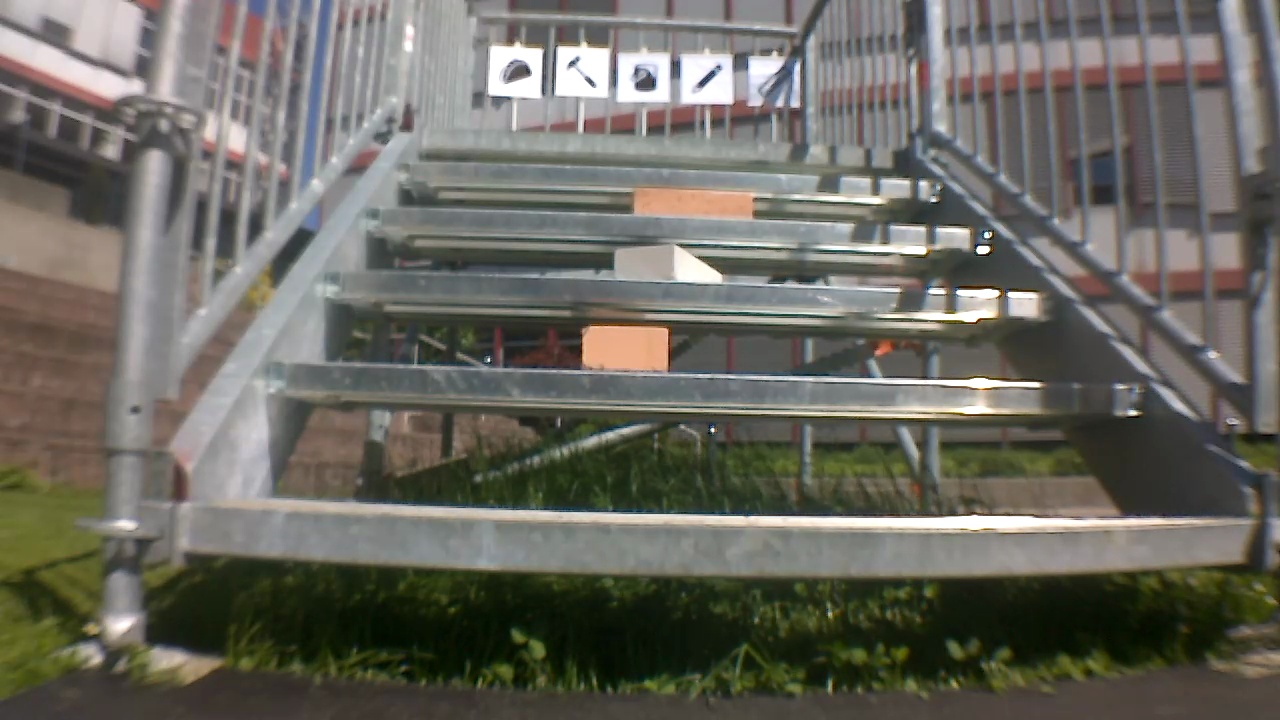brick: (612, 241, 730, 283), (577, 324, 676, 370), (629, 190, 756, 213)
edge: (180, 518, 1268, 559), (317, 268, 1070, 315), (259, 367, 1155, 404), (354, 213, 1006, 248), (391, 161, 952, 194), (412, 136, 911, 158)
stairs: (100, 0, 1280, 668)
steps: (158, 136, 1274, 573)
